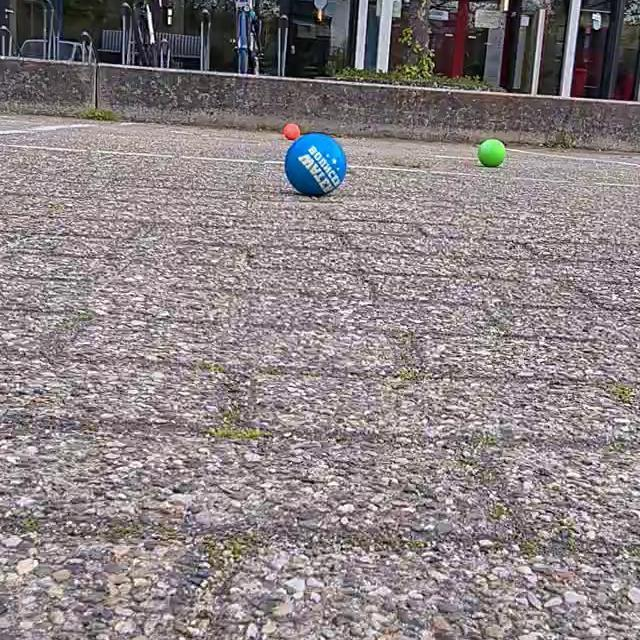ball: (476, 138, 506, 172), (282, 120, 304, 142)
